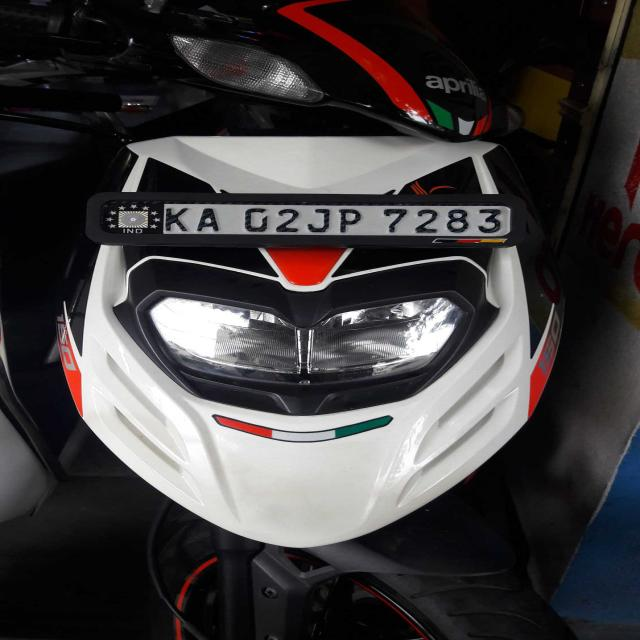plate: (95, 198, 525, 241)
